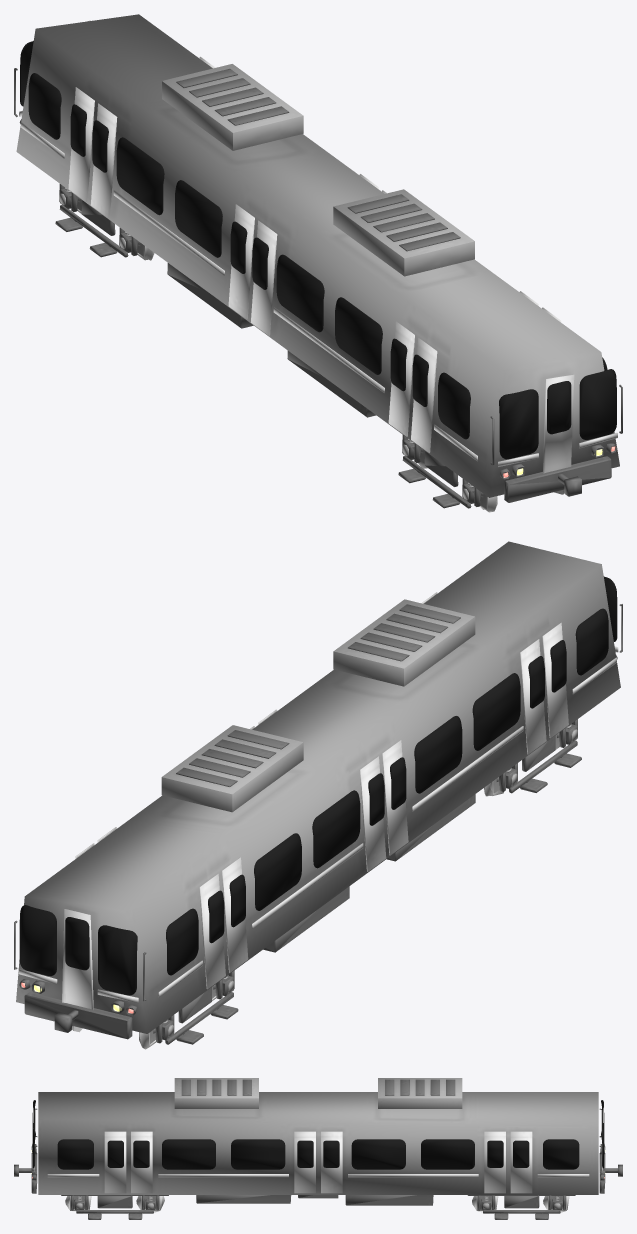
File: subway-colored.glb
The picture shows the model from 3 angles, top to bottom: view 1: azimuth 30°, elevation 25°; view 2: azimuth 150°, elevation 25°; view 3: azimuth 270°, elevation 25°; orthographic projection. The views are drawn at different scales.
Visible parts, largest first — view 1: subway-train_body, subway-train_window_glass; view 2: subway-train_body, subway-train_window_glass; view 3: subway-train_body, subway-train_window_glass.
Part boxes in pixels (x1,y1,x2,y2): subway-train_body: (14,14,622,512); subway-train_window_glass: (20,41,616,459); subway-train_body: (14,541,622,1049); subway-train_window_glass: (19,576,617,995); subway-train_body: (14,1078,622,1219); subway-train_window_glass: (32,1100,604,1169).
Bounding box in the file's own units: 2.83 × 3.76 × 17.97.
4 materials, 1 textured.
